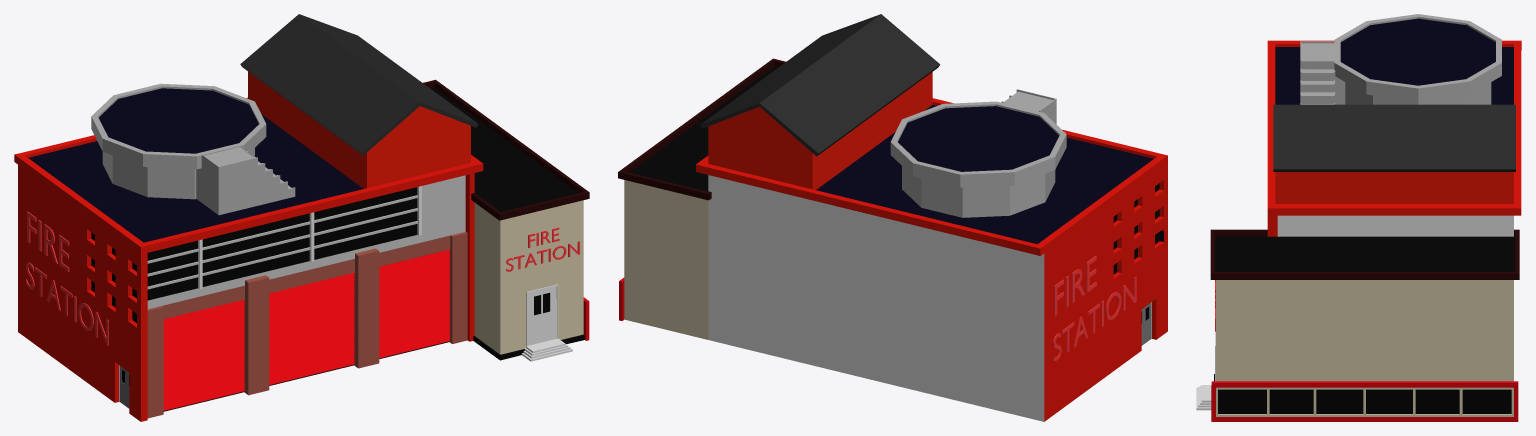
Rendered from Fire Station.fbx.
3 views of the same model, side by side, from view 1: azimuth 30°, elevation 25°; view 2: azimuth 150°, elevation 25°; view 3: azimuth 270°, elevation 25° (orthographic).
Parts seen in each view (by area): view 1: Plane; view 2: Plane; view 3: Plane.
Part boxes in pixels (x1=…): Plane: x1=14, y1=14, x2=589, y2=421; Plane: x1=618, y1=14, x2=1167, y2=421; Plane: x1=1196, y1=14, x2=1521, y2=421.
Size of the model in its own units: 1173 by 662 by 783.
